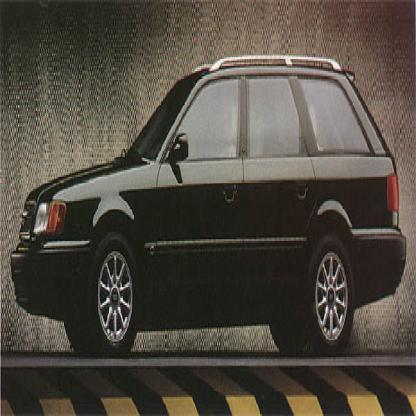Vehicle: (10, 47, 409, 360)
